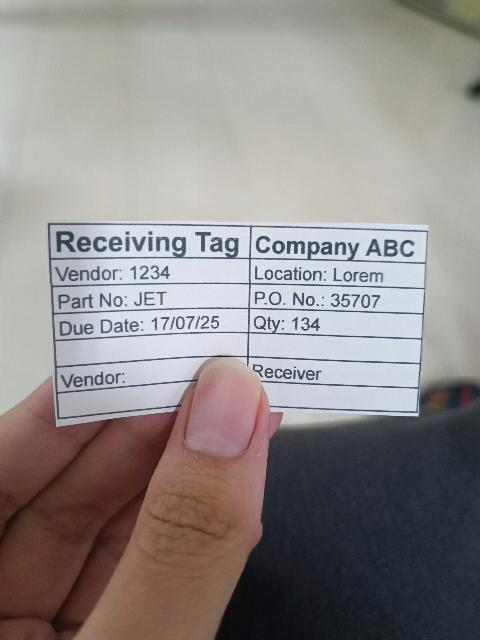PO no: (249, 283, 426, 315)
part no: (52, 284, 250, 314)
qty: (249, 308, 423, 340)
tags: (48, 222, 428, 426)
